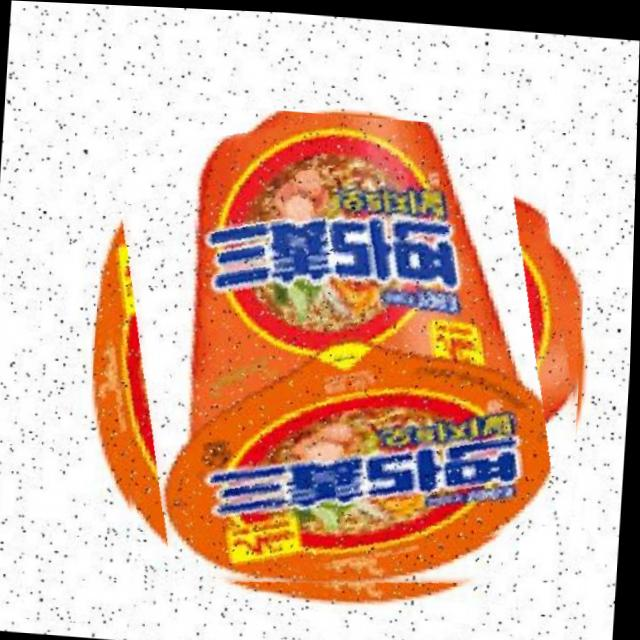Miscellaneous: (82, 94, 597, 614)
